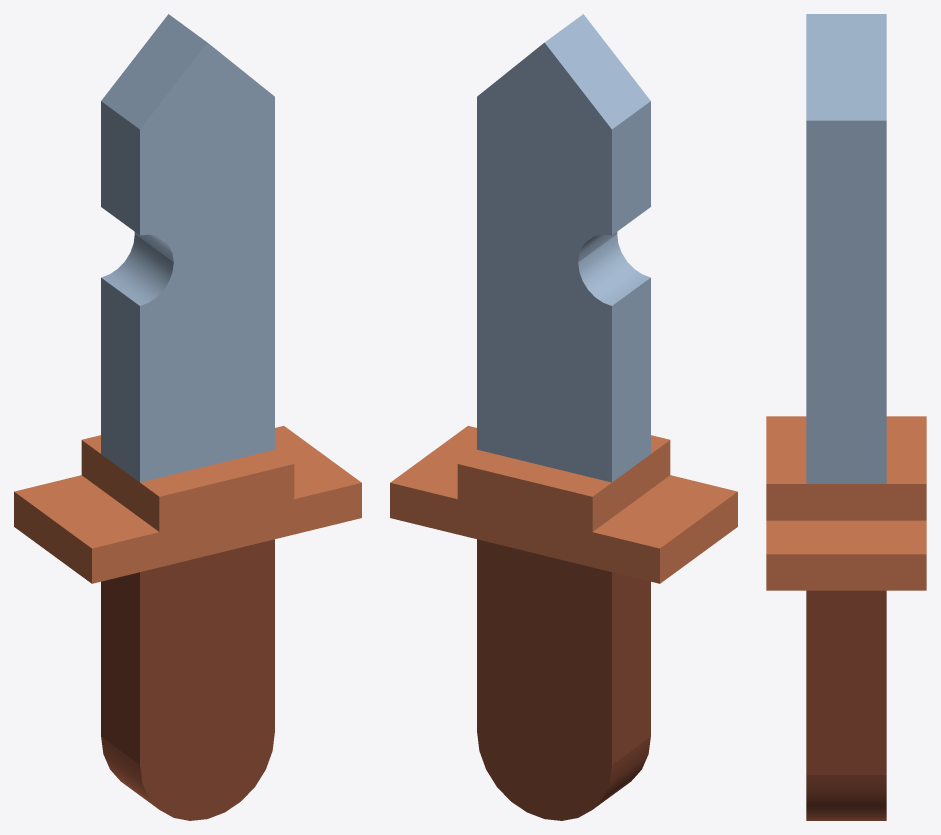
3 renders of one model, left to right at view 1: azimuth 30°, elevation 25°; view 2: azimuth 150°, elevation 25°; view 3: azimuth 270°, elevation 25°, orthographic. The views are drawn at different scales.
Parts seen in each view (by area): view 1: generated; view 2: generated; view 3: generated.
Boxes of the visible parts, x1=… form: generated: x1=14, y1=14, x2=361, y2=820; generated: x1=390, y1=14, x2=737, y2=820; generated: x1=766, y1=14, x2=926, y2=820.
Bounding box in the file's own units: 40 × 110 × 20.
